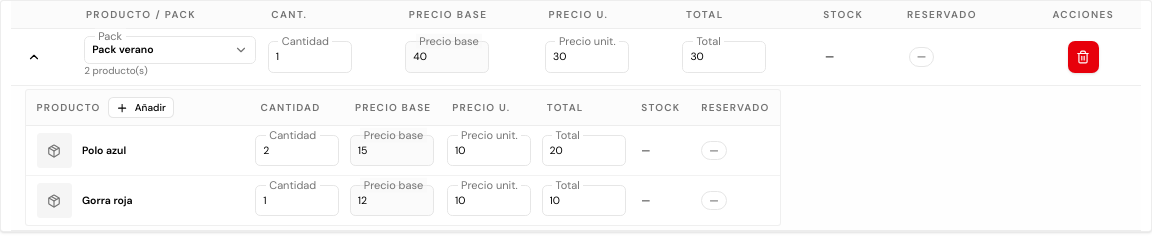
Test case: SaleOrderItemsTable › starts with the component subtable expanded and can collapse and reopen it
Expected: the text "Polo azul" is shown, [82,144,126,158]
What coordinates should you click on to do the following:
click the button named "Contraer componentes del pack Pack verano"
I would click on:
 (34, 57)
Its box is [18,41,50,73].
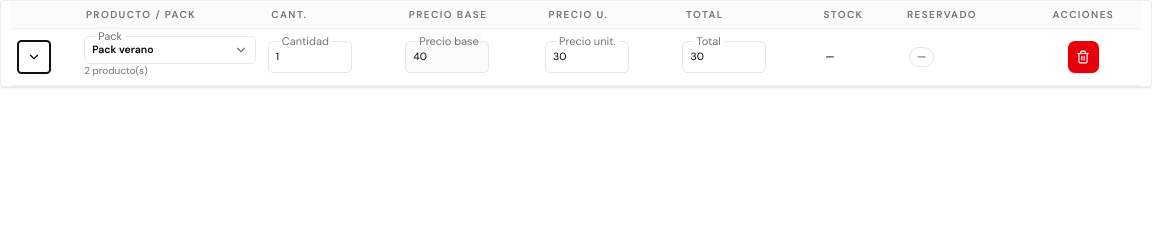
Expected: the text "Polo azul" is gone
What coordinates should you click on to do the following:
click the button named "Desplegar componentes del pack Pack verano"
I would click on:
 (34, 57)
Its box is [18,41,50,73].
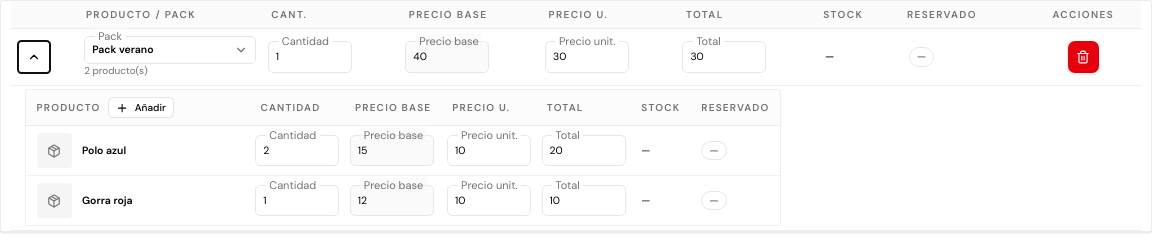
Expected: the text "Polo azul" is shown, [82,144,126,158]
